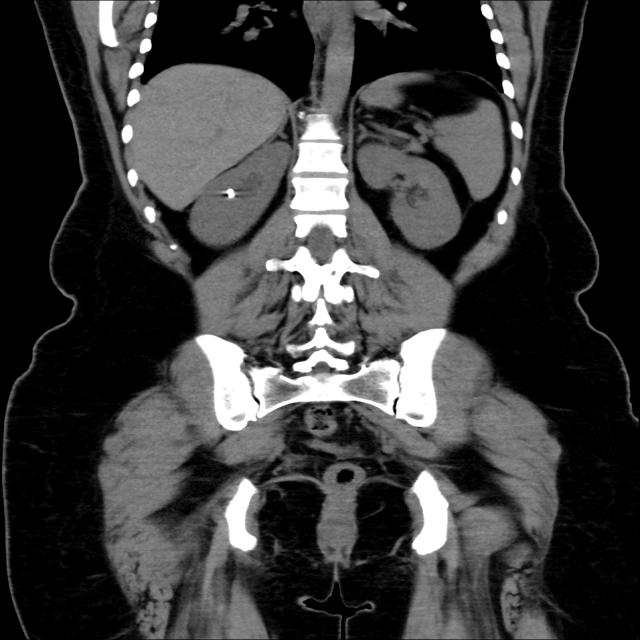kidneystone: (226, 189, 235, 199)
